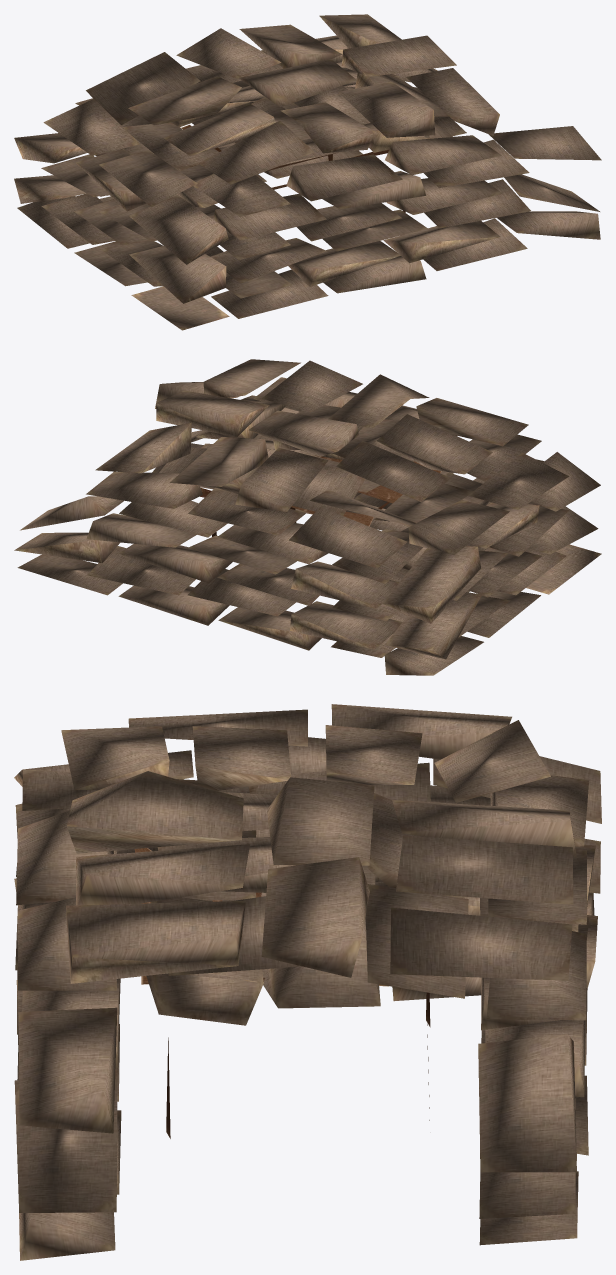
The model's file is base_sb_store_lod1.glb.
The picture shows the model from 3 angles, top to bottom: view 1: azimuth 30°, elevation 25°; view 2: azimuth 150°, elevation 25°; view 3: azimuth 270°, elevation 25°; orthographic projection. The views are drawn at different scales.
Visible parts, largest first — view 1: base_sb_store; view 2: base_sb_store; view 3: base_sb_store.
Part boxes in pixels (x1,y1,x2,y2): base_sb_store: (14,14,601,330); base_sb_store: (14,359,601,675); base_sb_store: (14,704,601,1260).
Size of the model in its own units: 8.46 by 3.02 by 5.86.
Materials: 1 (1 with a texture image).
